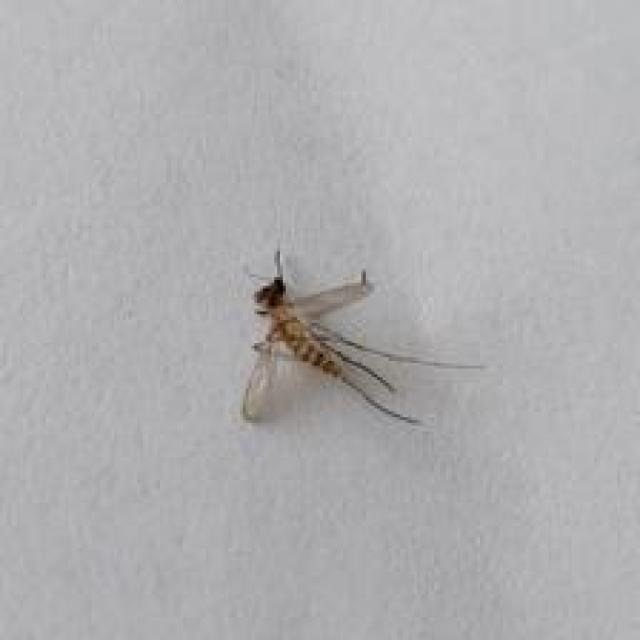Culex: (239, 246, 487, 428)
